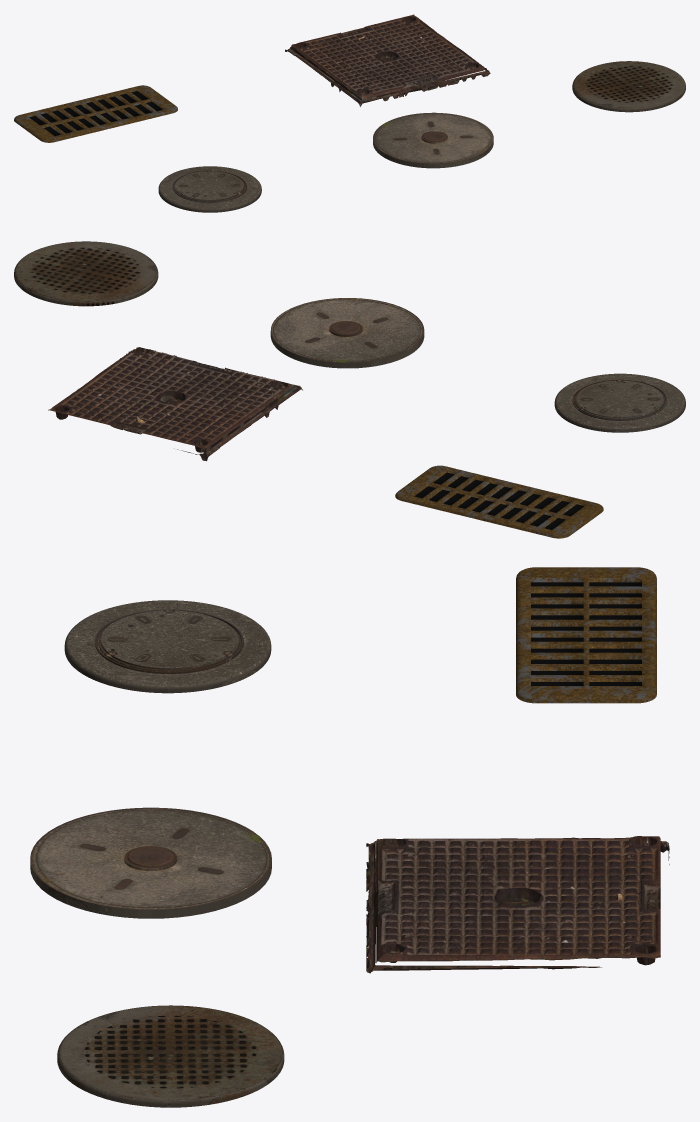
File: manhole.glb
3 views of the same model, one above another, from view 1: azimuth 30°, elevation 25°; view 2: azimuth 150°, elevation 25°; view 3: azimuth 270°, elevation 25° (orthographic). The views are drawn at different scales.
Visible parts, largest first — view 1: Plane.045_4, Plane.043_2, Plane.013_0, Plane.042_1, Plane.044_3; view 2: Plane.045_4, Plane.043_2, Plane.013_0, Plane.042_1, Plane.044_3; view 3: Plane.045_4, Plane.043_2, Plane.013_0, Plane.042_1, Plane.044_3.
Part boxes in pixels (bbox=[...]): Plane.045_4: bbox=[285, 14, 490, 106]; Plane.043_2: bbox=[373, 112, 493, 168]; Plane.013_0: bbox=[14, 85, 177, 142]; Plane.042_1: bbox=[572, 61, 685, 112]; Plane.044_3: bbox=[158, 166, 261, 212]; Plane.045_4: bbox=[48, 347, 302, 461]; Plane.043_2: bbox=[270, 298, 424, 368]; Plane.013_0: bbox=[395, 465, 603, 538]; Plane.042_1: bbox=[14, 241, 158, 306]; Plane.044_3: bbox=[554, 373, 685, 432]; Plane.045_4: bbox=[366, 836, 669, 973]; Plane.043_2: bbox=[30, 807, 271, 918]; Plane.013_0: bbox=[516, 567, 656, 703]; Plane.042_1: bbox=[57, 1005, 284, 1107]; Plane.044_3: bbox=[64, 600, 271, 693].
Size of the model in its own units: 1.46 by 0.0275 by 0.7402.
Materials: 6 (5 with a texture image).
